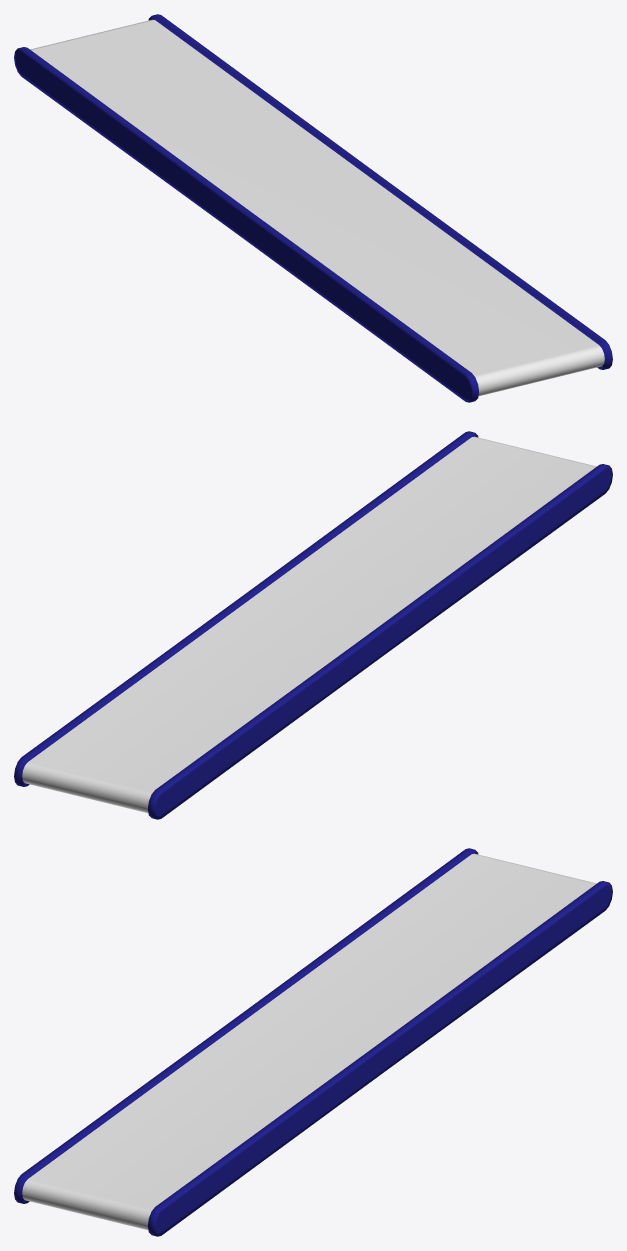
File: Conveyor Belt Main.fbx
The picture shows the model from 3 angles, top to bottom: view 1: azimuth 30°, elevation 25°; view 2: azimuth 150°, elevation 25°; view 3: azimuth 330°, elevation 25°; orthographic projection.
Parts seen in each view (by area): view 1: Main Belt; view 2: Main Belt; view 3: Main Belt.
Boxes of the visible parts, x1=… form: Main Belt: x1=14, y1=14, x2=612, y2=402; Main Belt: x1=14, y1=431, x2=612, y2=819; Main Belt: x1=14, y1=848, x2=612, y2=1236.
Bounding box in the file's own units: 450 × 84.44 × 2557.
